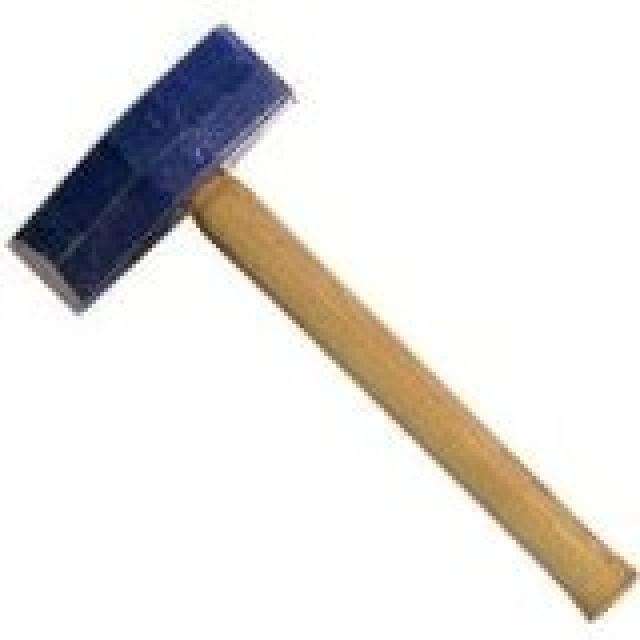hammer: (0, 6, 640, 630)
